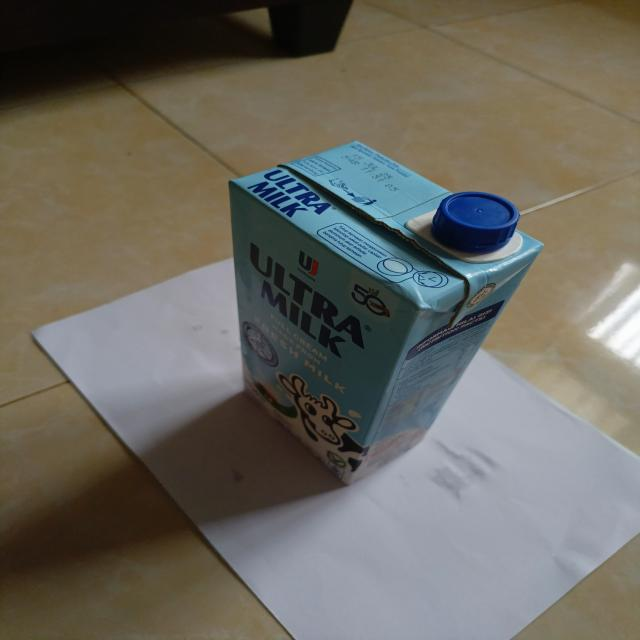indomie-mie-kocok-bandung: (228, 137, 544, 489)
